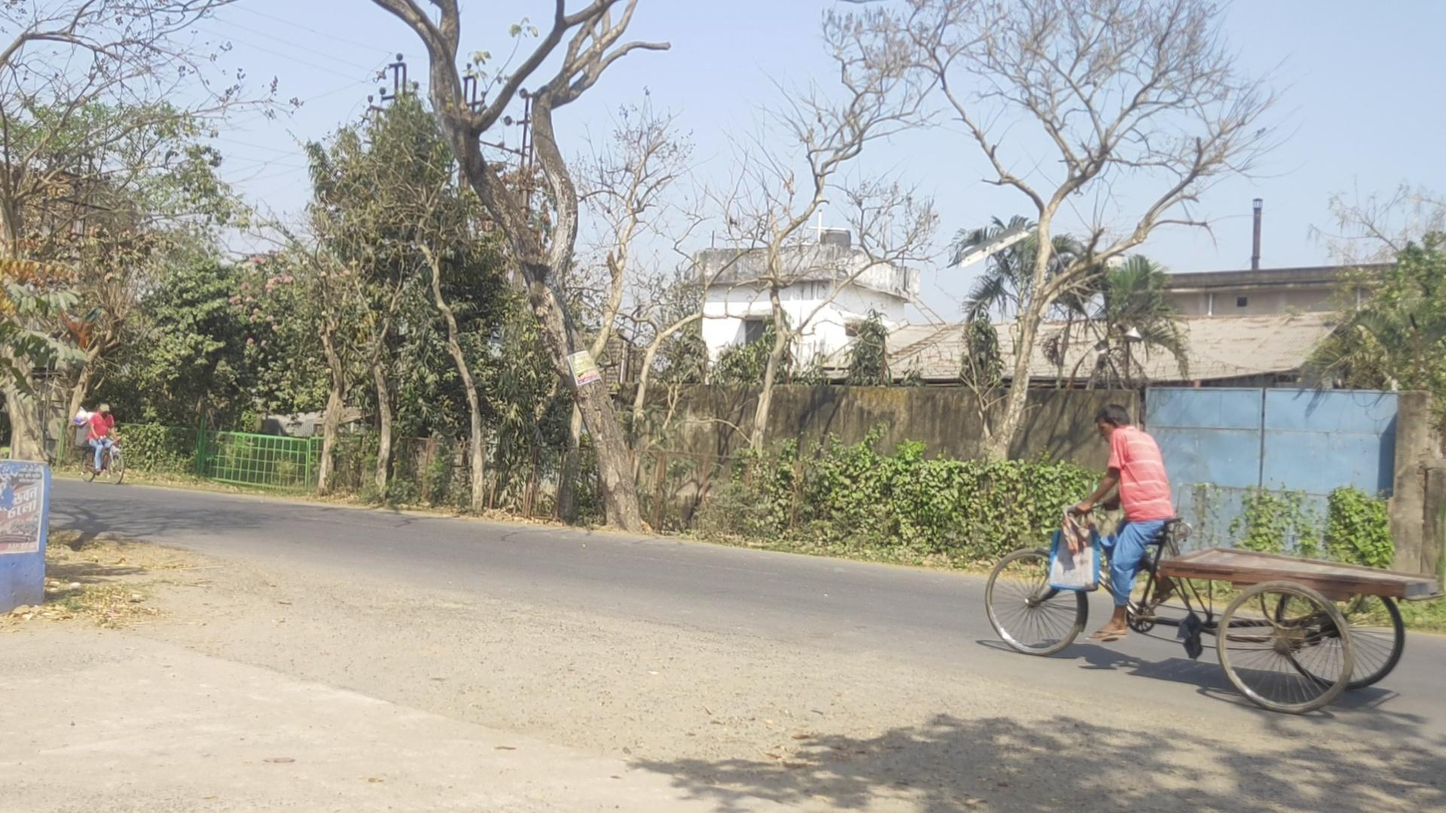bike: (74, 403, 125, 486)
